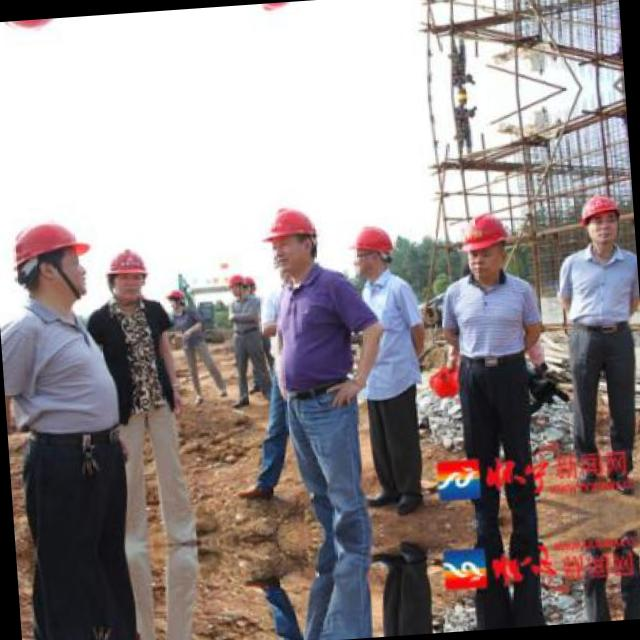helmet: (7, 214, 92, 309), (258, 200, 324, 277), (456, 205, 516, 281), (98, 242, 150, 305), (574, 188, 622, 250), (344, 219, 394, 278), (220, 271, 248, 301), (164, 286, 186, 310), (241, 274, 256, 296)
